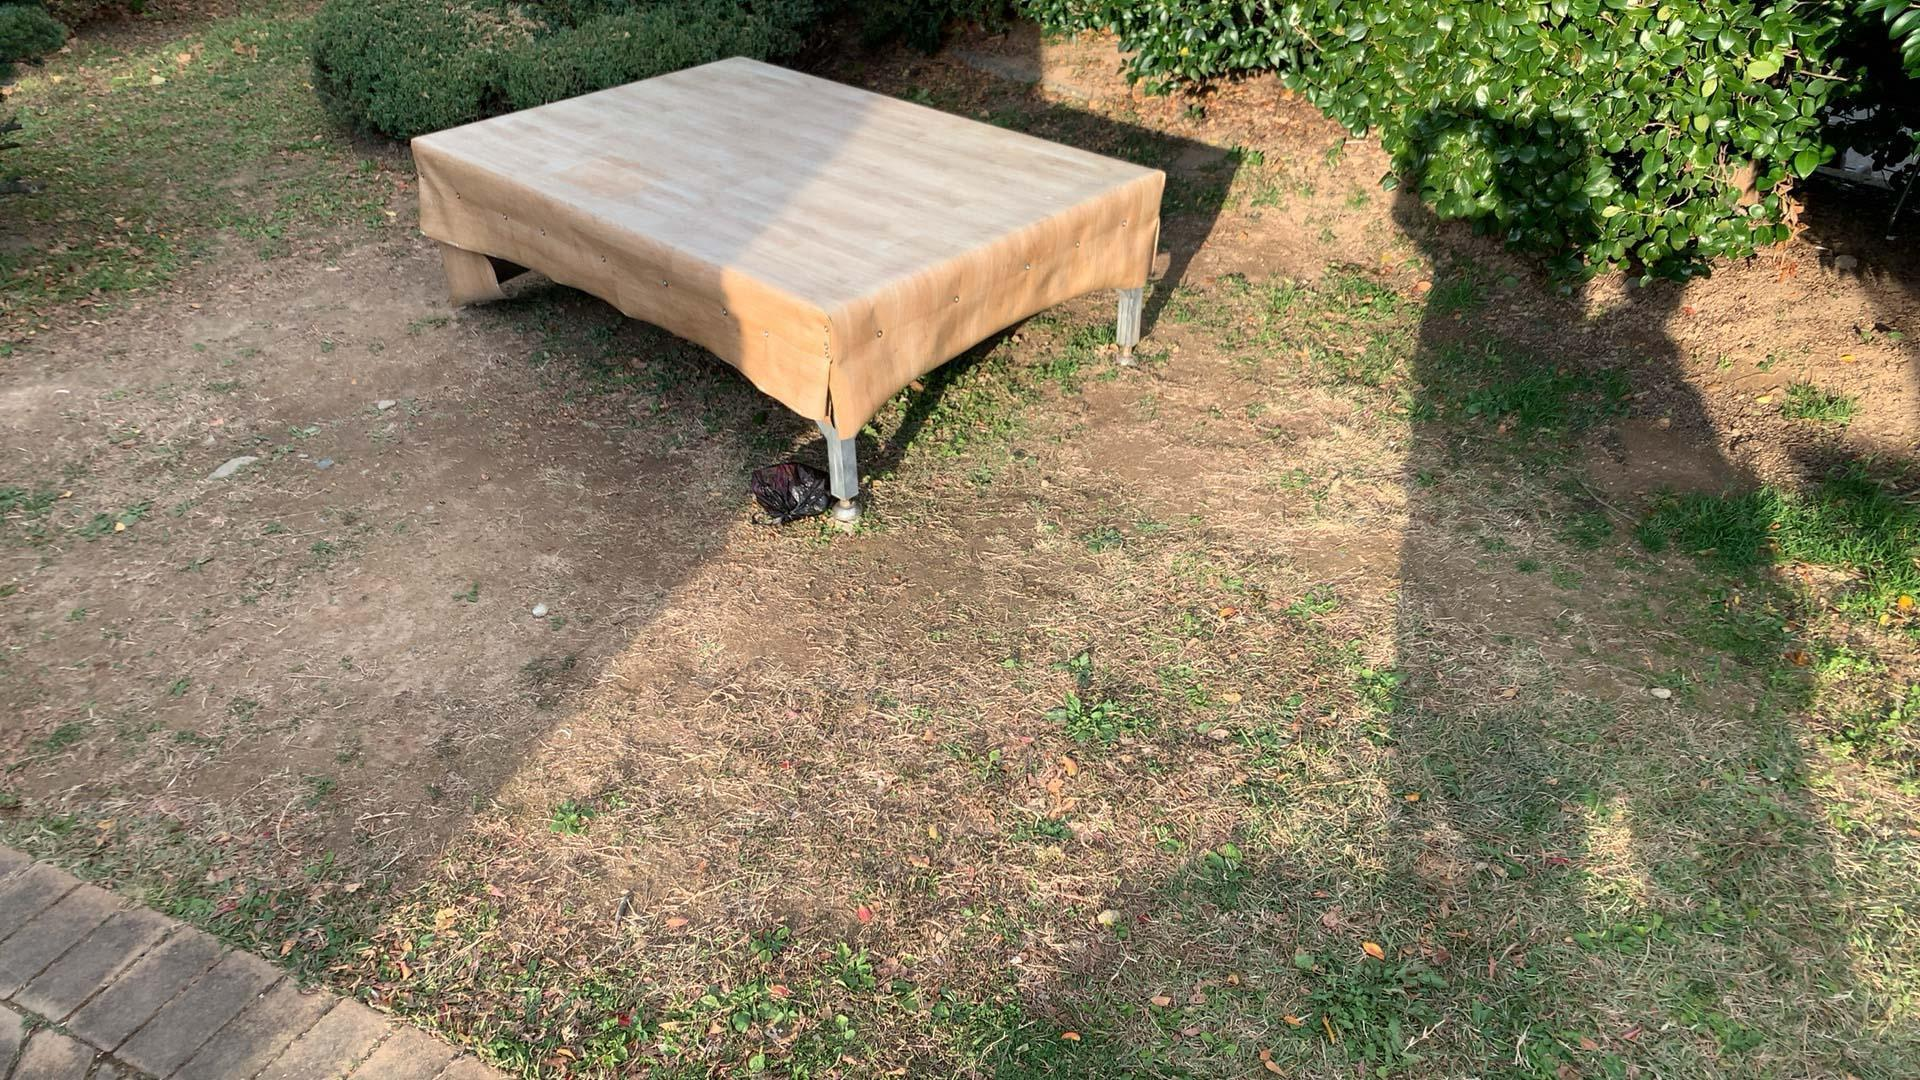black_bag: (738, 458, 843, 529)
